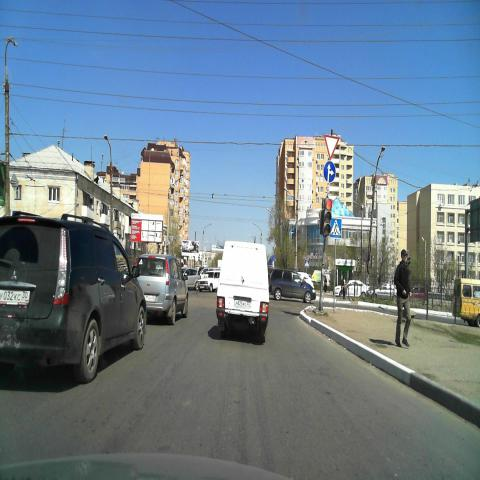2_4: (324, 134, 340, 160)
4_1_4: (323, 160, 336, 184)
5_19_1: (330, 218, 342, 239), (304, 259, 310, 267)
